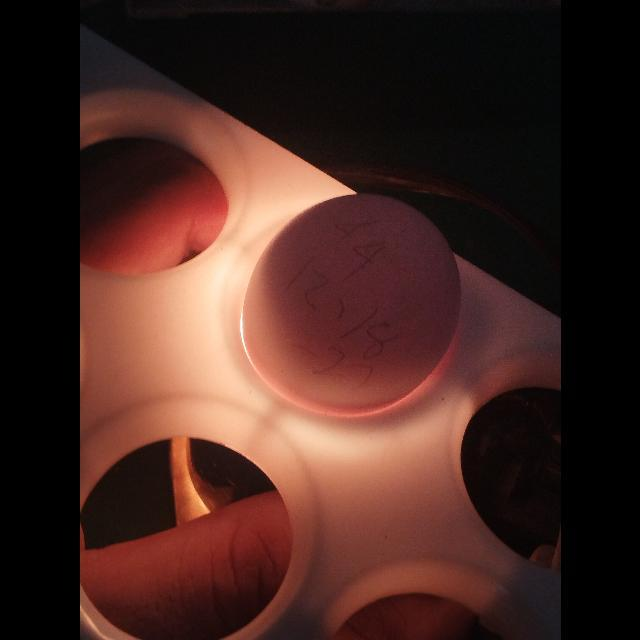Fertile: (241, 185, 461, 412)
